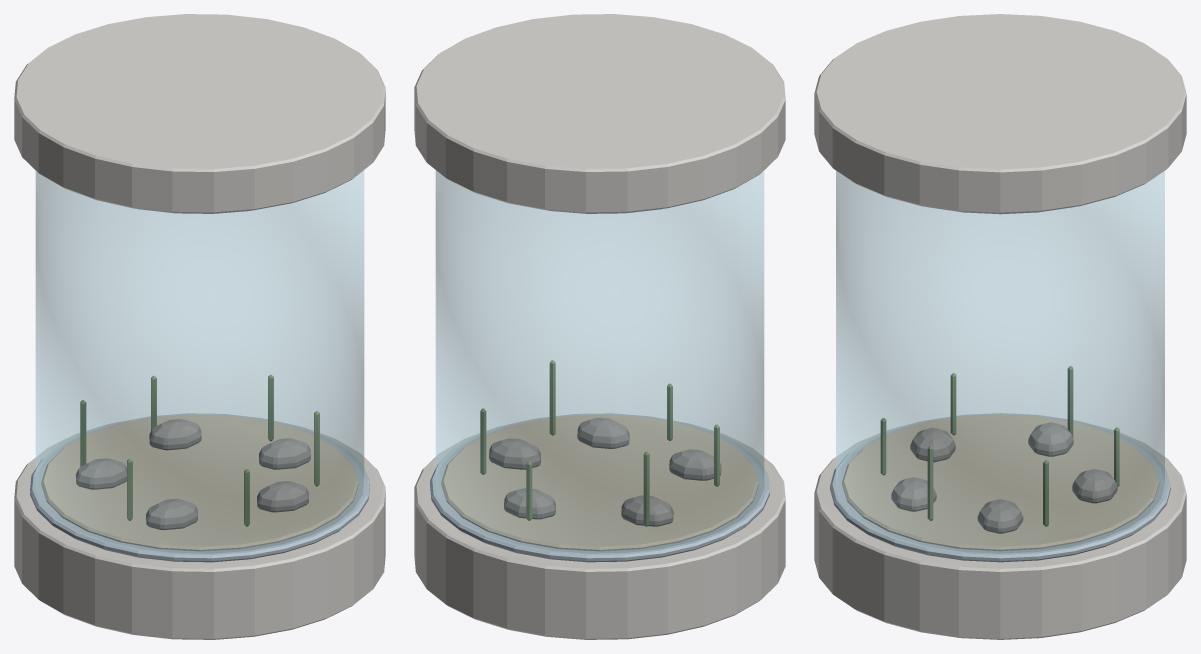
Rendered from furn_aquarium_pillar__white.glb.
3 renders of one model, left to right at view 1: azimuth 30°, elevation 25°; view 2: azimuth 150°, elevation 25°; view 3: azimuth 270°, elevation 25°, orthographic.
Size of the model in its own units: 1.9 by 2.65 by 1.9.
